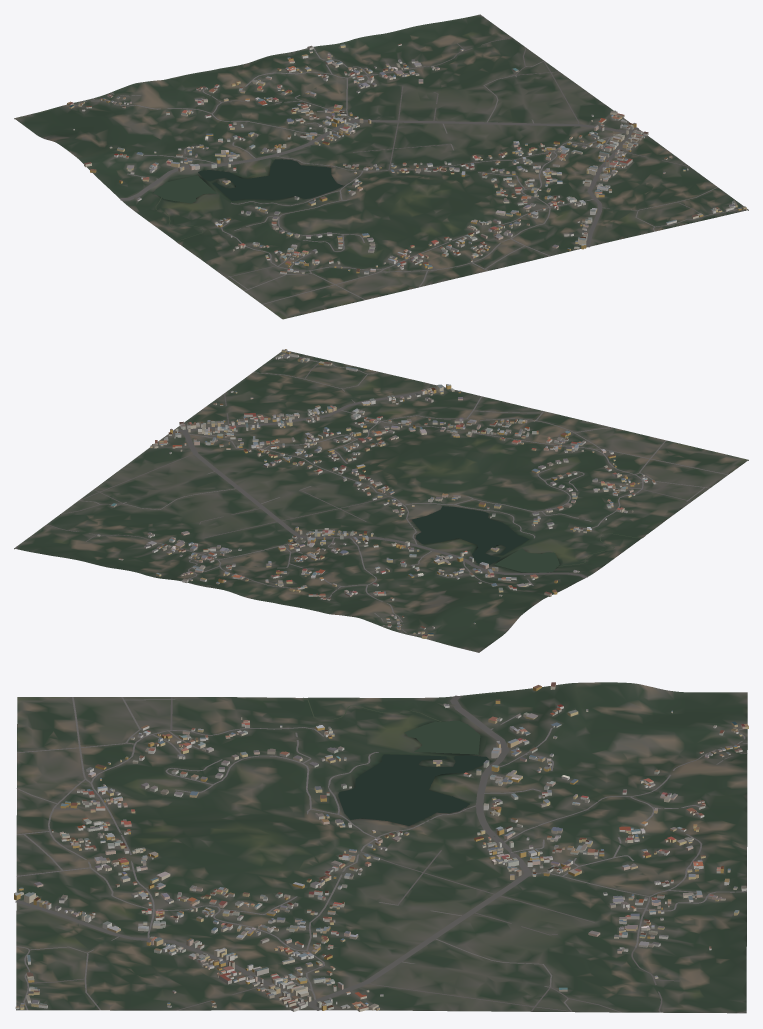
3 views of the same model, one above another, from view 1: azimuth 30°, elevation 25°; view 2: azimuth 150°, elevation 25°; view 3: azimuth 270°, elevation 25° (orthographic). The views are drawn at different scales.
Parts seen in each view (by area): view 1: ground, buildings, roads, water; view 2: ground, buildings, roads, water; view 3: ground, buildings, roads, water.
Boxes of the visible parts, x1=… form: ground: x1=14, y1=14, x2=748, y2=319; buildings: x1=67, y1=43, x2=747, y2=274; roads: x1=74, y1=15, x2=741, y2=304; water: x1=153, y1=159, x2=342, y2=242; ground: x1=14, y1=350, x2=748, y2=652; buildings: x1=97, y1=349, x2=655, y2=638; roads: x1=16, y1=352, x2=728, y2=634; water: x1=412, y1=506, x2=642, y2=572; ground: x1=16, y1=682, x2=747, y2=1013; buildings: x1=14, y1=682, x2=748, y2=1011; roads: x1=15, y1=695, x2=747, y2=1013; water: x1=303, y1=697, x2=488, y2=825.
Size of the model in its own units: 1408 by 50.8 by 1411.
